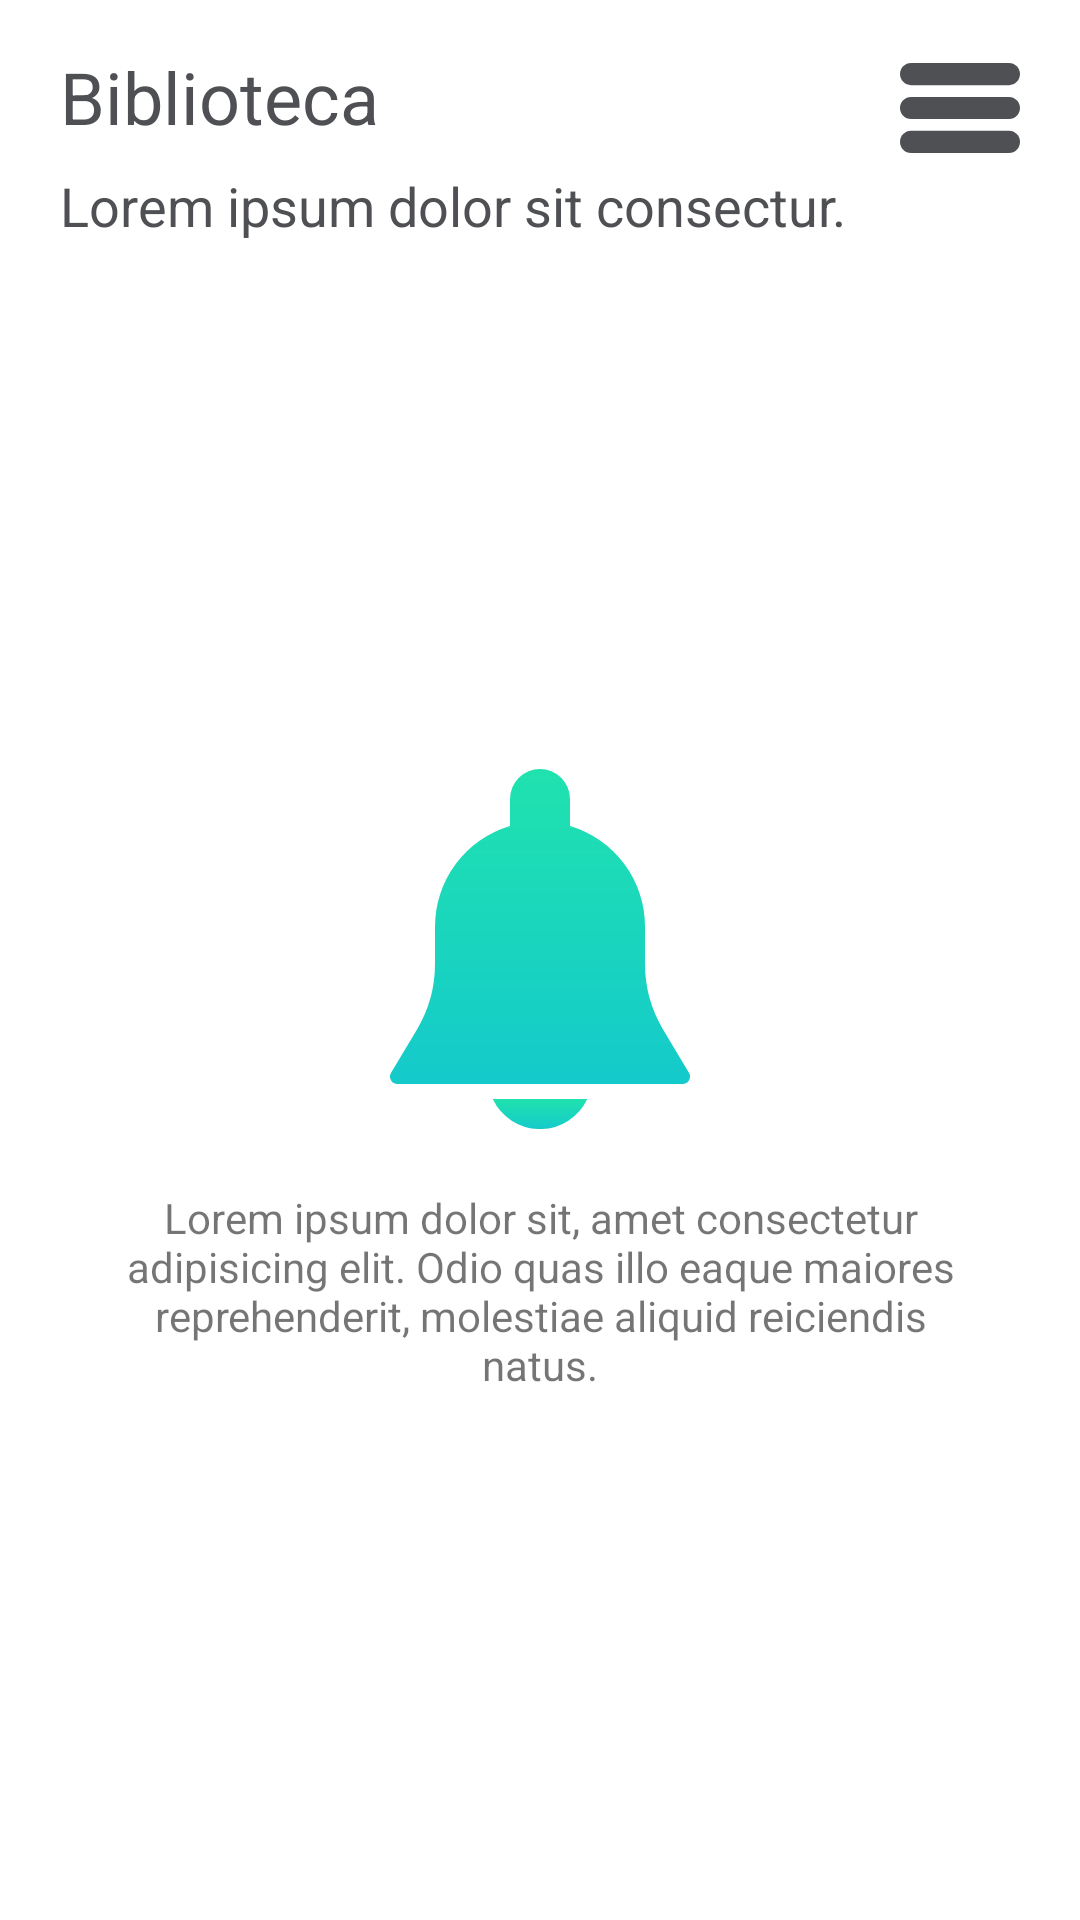

Point at icon controls on the screen. Image size 1080px×1920px, points as (x=x, y=y).
menu: (x=960, y=108)
notification: (x=540, y=949)
